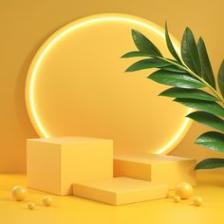yellow: (26, 13, 193, 154), (1, 169, 224, 224), (27, 137, 113, 196), (115, 154, 196, 190), (73, 178, 169, 205), (176, 182, 194, 199)
